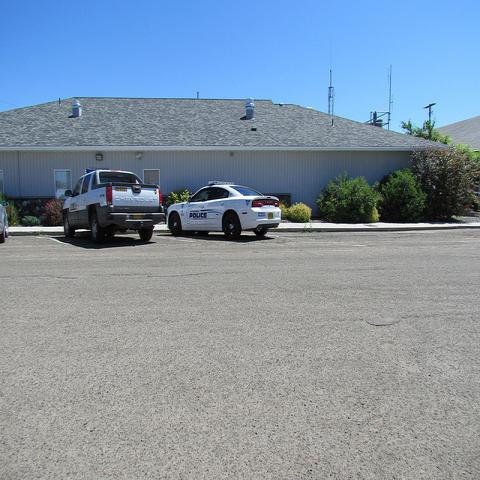car: (166, 183, 282, 239), (0, 201, 11, 244)
truck: (60, 164, 164, 243)
